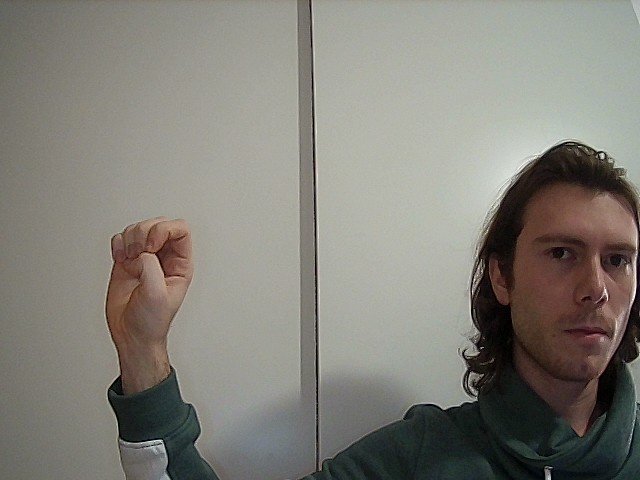e: (53, 195, 236, 340)
